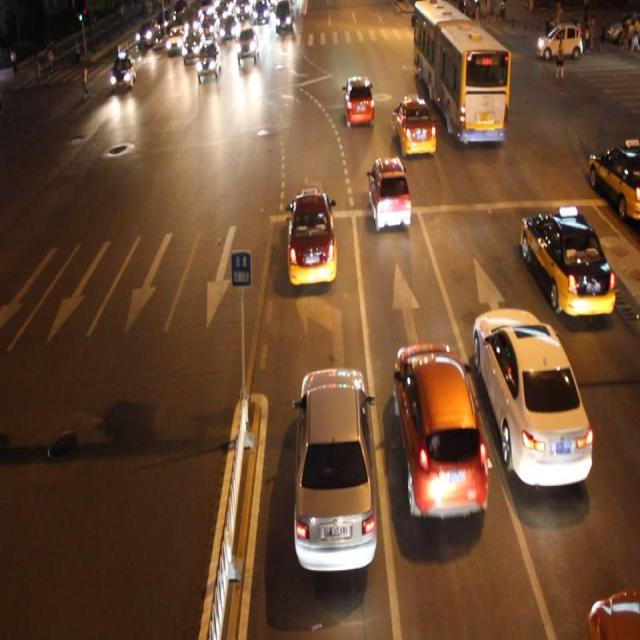car: (473, 308, 592, 488), (294, 366, 376, 576), (391, 342, 487, 518), (518, 204, 612, 321), (286, 188, 336, 286), (587, 139, 640, 222), (367, 156, 410, 230), (585, 585, 640, 640), (393, 96, 435, 156), (342, 75, 375, 126), (112, 51, 134, 90), (196, 43, 219, 77), (236, 29, 257, 60), (181, 31, 201, 58)
van: (410, 1, 510, 147)
